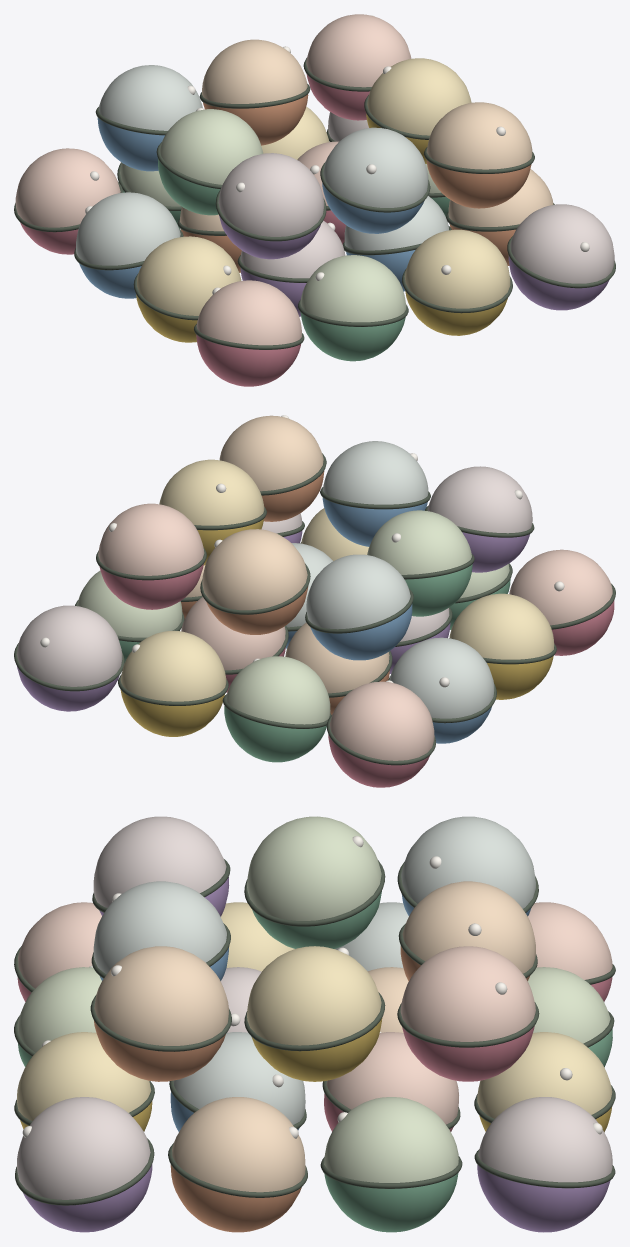
Rendered from hopper-sky.prefab.glb.
3 views of the same model, one above another, from view 1: azimuth 30°, elevation 25°; view 2: azimuth 150°, elevation 25°; view 3: azimuth 270°, elevation 25° (orthographic). The views are drawn at different scales.
Visible parts, largest first — view 1: HopperBall12_Batch0, HopperBall13_Batch0, HopperBall23_Batch0, HopperBall15_Batch0, HopperBall22_Batch0, HopperBall21_Batch0, HopperBall14_Batch0, HopperBall17_Batch0, HopperBall4_Batch0, HopperBall18_Batch0, HopperBall19_Batch0, HopperBall0_Batch0 (+19 smaller); view 2: HopperBall1_Batch0, HopperBall16_Batch0, HopperBall17_Batch0, HopperBall0_Batch0, HopperBall2_Batch0, HopperBall18_Batch0, HopperBall3_Batch0, HopperBall22_Batch0, HopperBall23_Batch0, HopperBall8_Batch0, HopperBall21_Batch0, HopperBall4_Batch0 (+19 smaller); view 3: HopperBall7_Batch0, HopperBall20_Batch0, HopperBall3_Batch0, HopperBall15_Batch0, HopperBall11_Batch0, HopperBall23_Batch0, HopperBall18_Batch0, HopperBall19_Batch0, HopperBall22_Batch0, HopperBall21_Batch0, HopperBall16_Batch0, HopperBall17_Batch0 (+20 smaller).
Boxes of the visible parts, <box> form: HopperBall12_Batch0: <box>196,280,301,386</box>; HopperBall13_Batch0: <box>300,255,406,361</box>; HopperBall23_Batch0: <box>426,102,532,208</box>; HopperBall15_Batch0: <box>508,204,614,310</box>; HopperBall22_Batch0: <box>322,127,428,233</box>; HopperBall21_Batch0: <box>218,153,324,259</box>; HopperBall14_Batch0: <box>404,229,510,335</box>; HopperBall17_Batch0: <box>202,39,308,145</box>; HopperBall4_Batch0: <box>76,192,180,298</box>; HopperBall18_Batch0: <box>306,14,411,120</box>; HopperBall19_Batch0: <box>158,109,263,215</box>; HopperBall0_Batch0: <box>15,148,120,254</box>; HopperBall1_Batch0: <box>224,656,330,762</box>; HopperBall16_Batch0: <box>306,554,412,660</box>; HopperBall17_Batch0: <box>202,529,308,634</box>; HopperBall0_Batch0: <box>328,681,434,787</box>; HopperBall2_Batch0: <box>120,630,226,736</box>; HopperBall18_Batch0: <box>98,503,204,609</box>; HopperBall3_Batch0: <box>16,605,122,711</box>; HopperBall22_Batch0: <box>322,441,428,546</box>; HopperBall23_Batch0: <box>219,415,324,521</box>; HopperBall8_Batch0: <box>449,593,554,699</box>; HopperBall21_Batch0: <box>427,466,532,572</box>; HopperBall4_Batch0: <box>390,637,494,743</box>; HopperBall7_Batch0: <box>324,1097,458,1232</box>; HopperBall20_Batch0: <box>247,946,382,1081</box>; HopperBall3_Batch0: <box>477,1097,612,1232</box>; HopperBall15_Batch0: <box>16,1097,152,1232</box>; HopperBall11_Batch0: <box>170,1097,305,1232</box>; HopperBall23_Batch0: <box>94,946,228,1081</box>; HopperBall18_Batch0: <box>400,946,535,1081</box>; HopperBall19_Batch0: <box>247,816,381,948</box>; HopperBall22_Batch0: <box>93,881,228,980</box>; HopperBall21_Batch0: <box>93,816,229,916</box>; HopperBall16_Batch0: <box>401,816,535,916</box>; HopperBall17_Batch0: <box>400,881,535,981</box>.
Bounding box in the file's own units: 0.157 × 0.0694 × 0.1569.
Materials: 2 (2 with a texture image).
